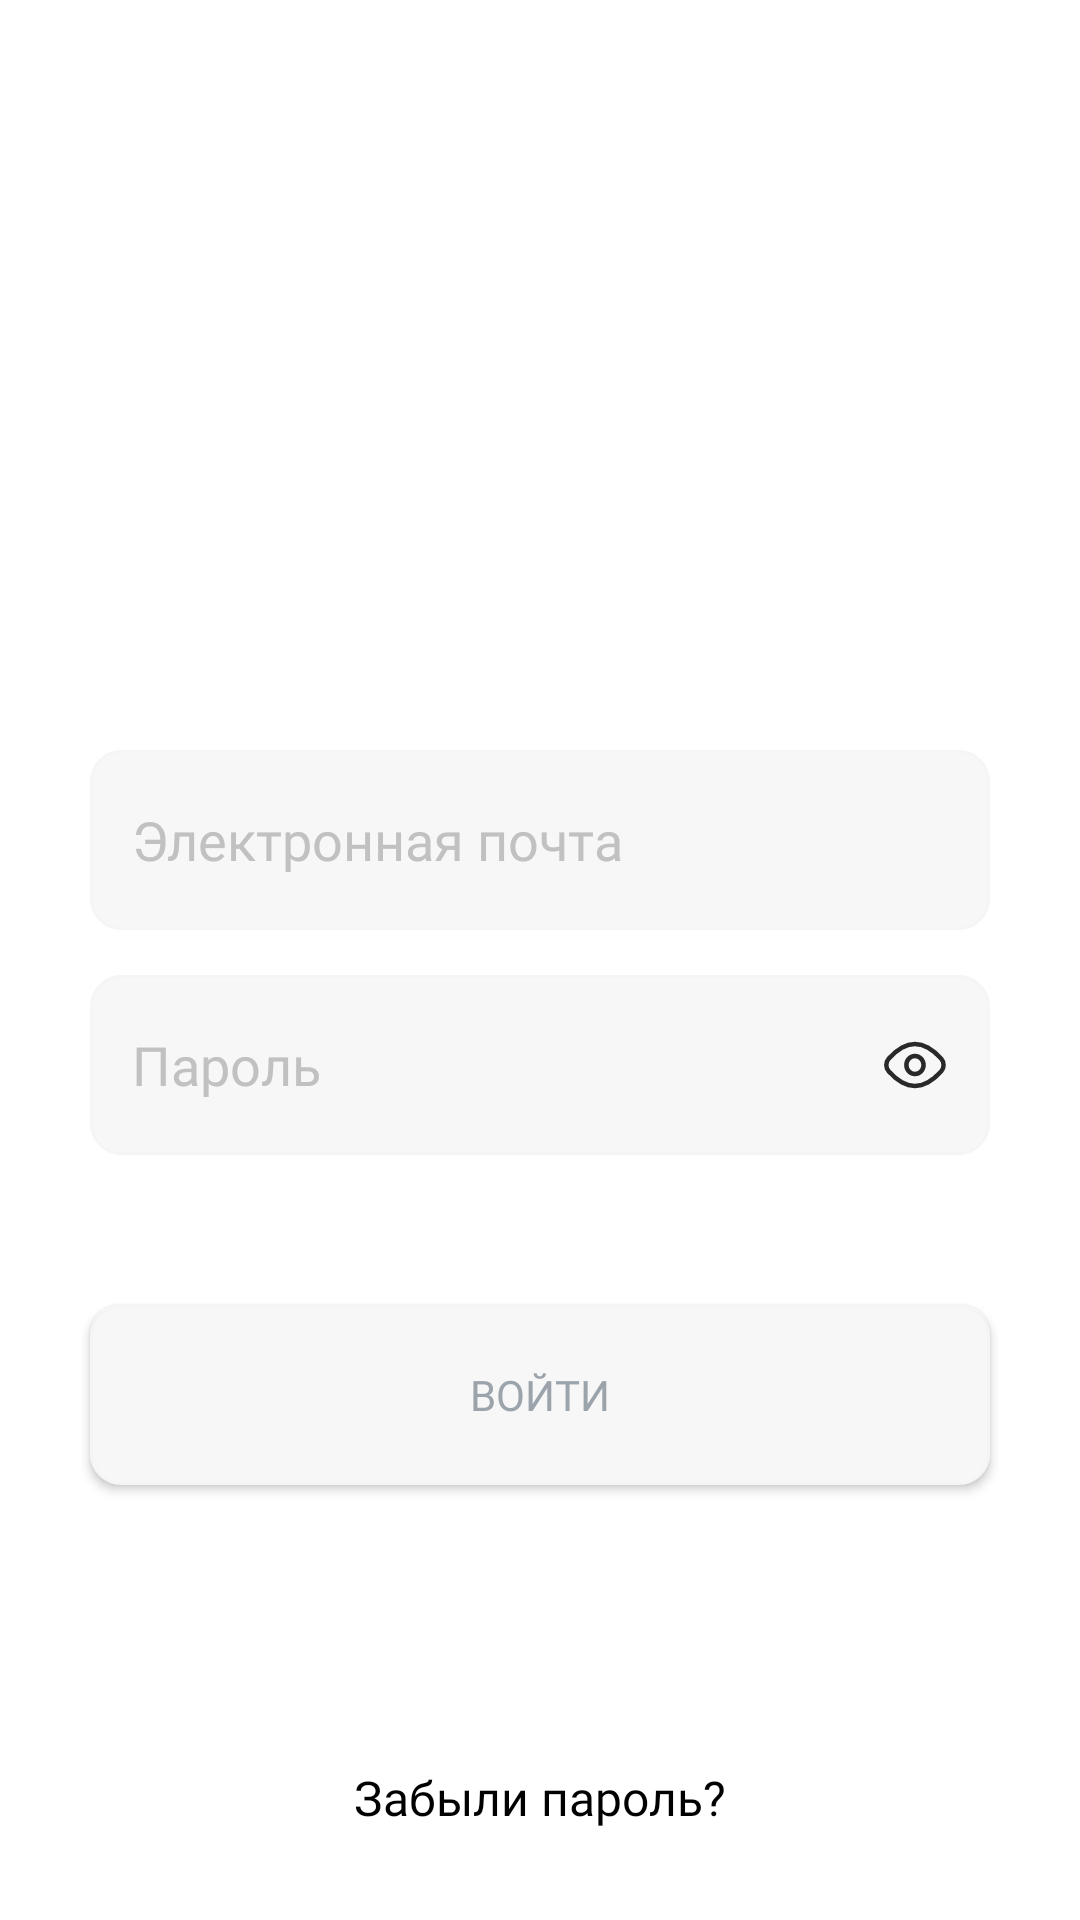

Named icons in this screenshot (1080×1920) and their centers, point (x, y):
password: point (915, 1065)
